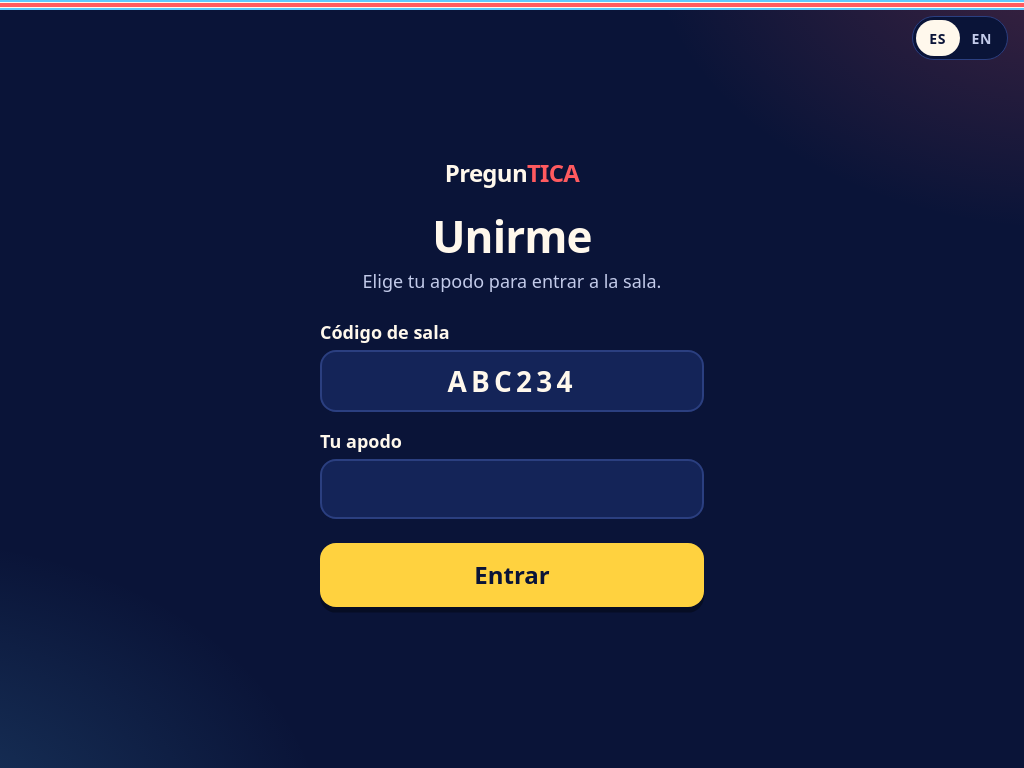
Test case: join › ROOM_NOT_FOUND explains what happened and keeps the form usable
Type "Tica" into the field labelled "Tu apodo" at (512, 489), box [320, 459, 704, 519]
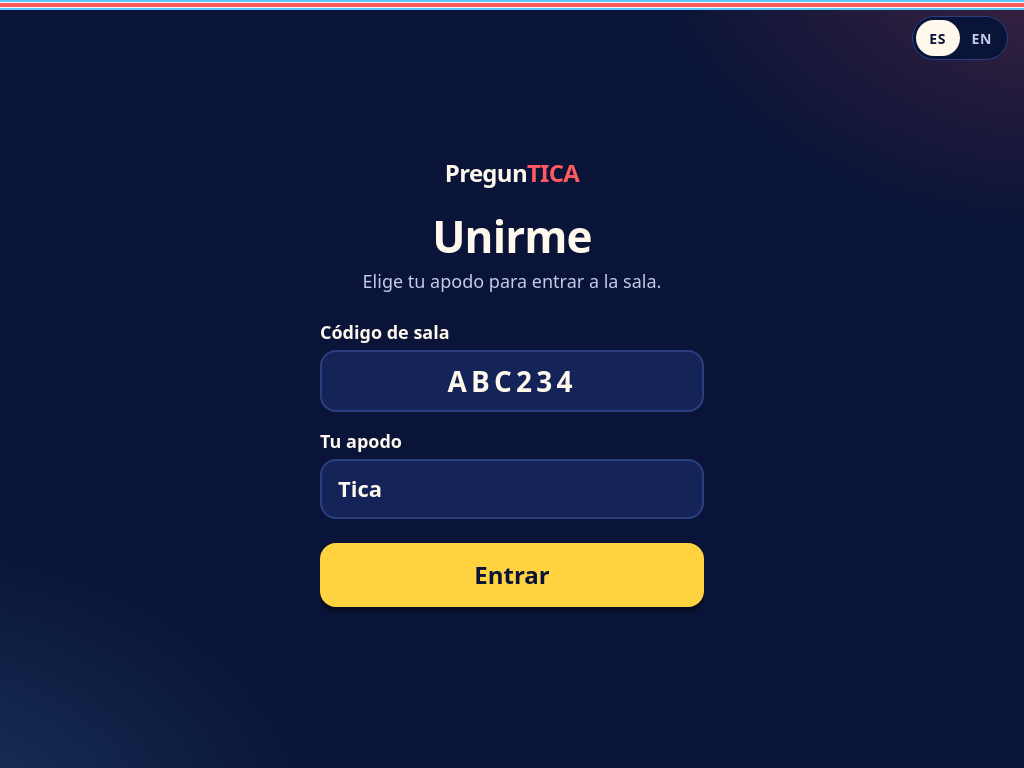
Click the button "Entrar" at (512, 575), box [320, 543, 704, 607]
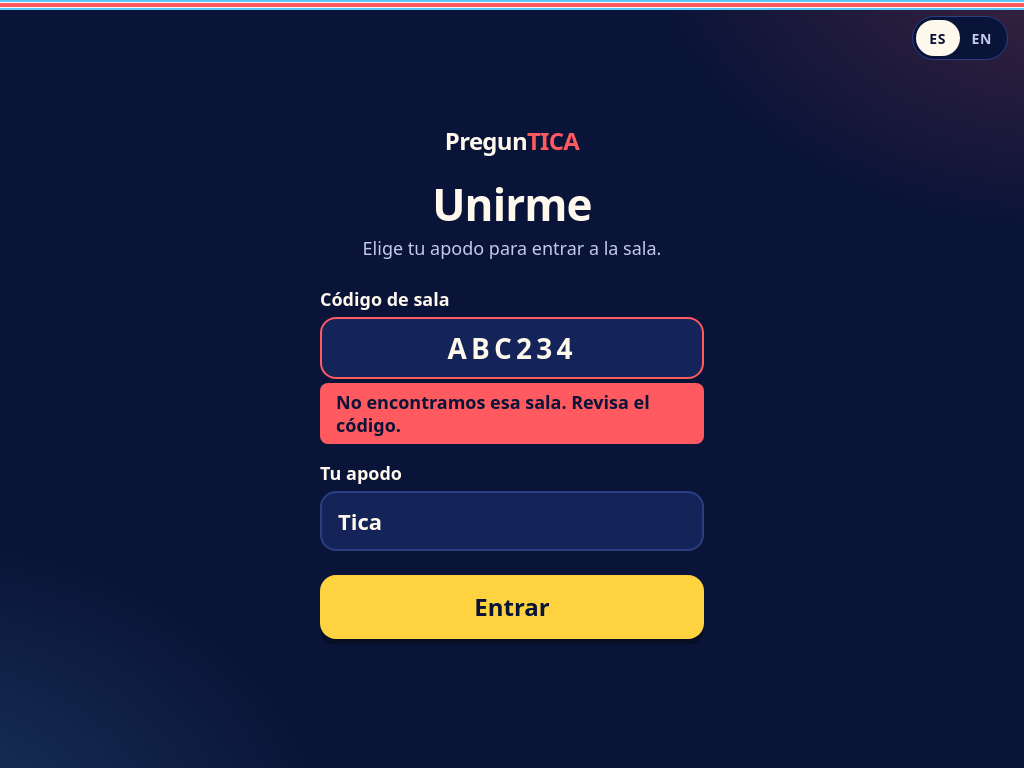
Expected: the button "Entrar" is enabled, [320, 575, 704, 639]
Expected: the message reads "No encontramos esa sala. Revisa el código.", [336, 390, 650, 437]
